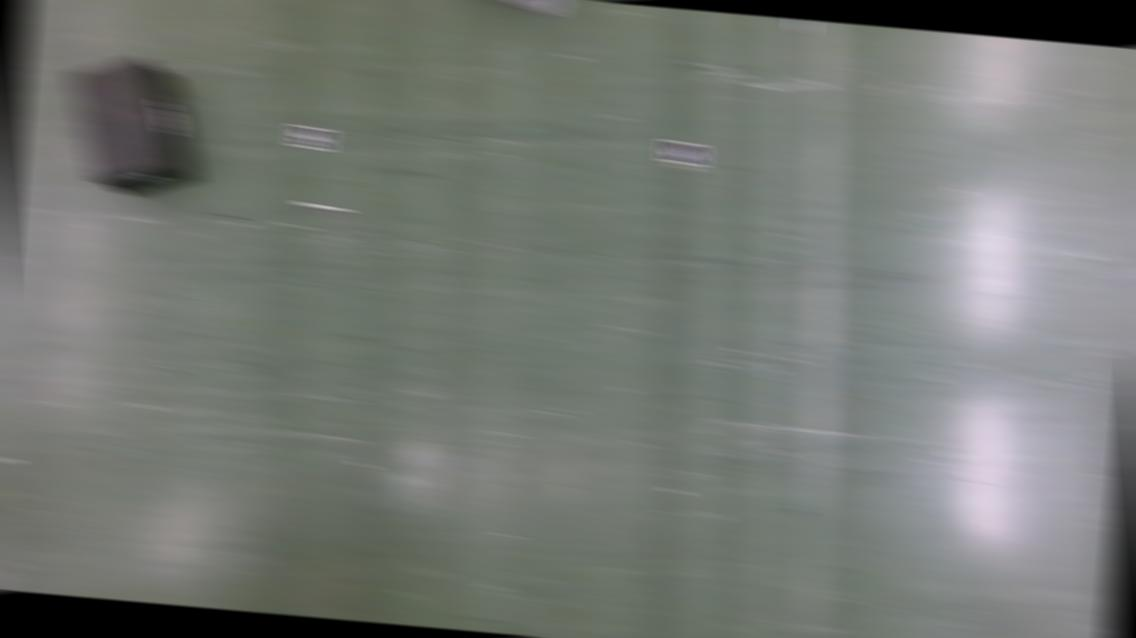probes: (294, 196, 352, 214), (790, 18, 814, 34)
rako: (58, 52, 208, 204)
